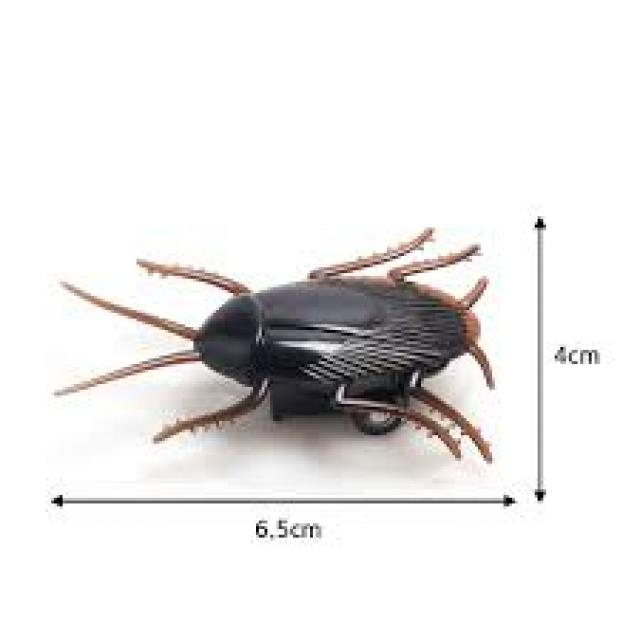Cockroach: (92, 217, 531, 472)
